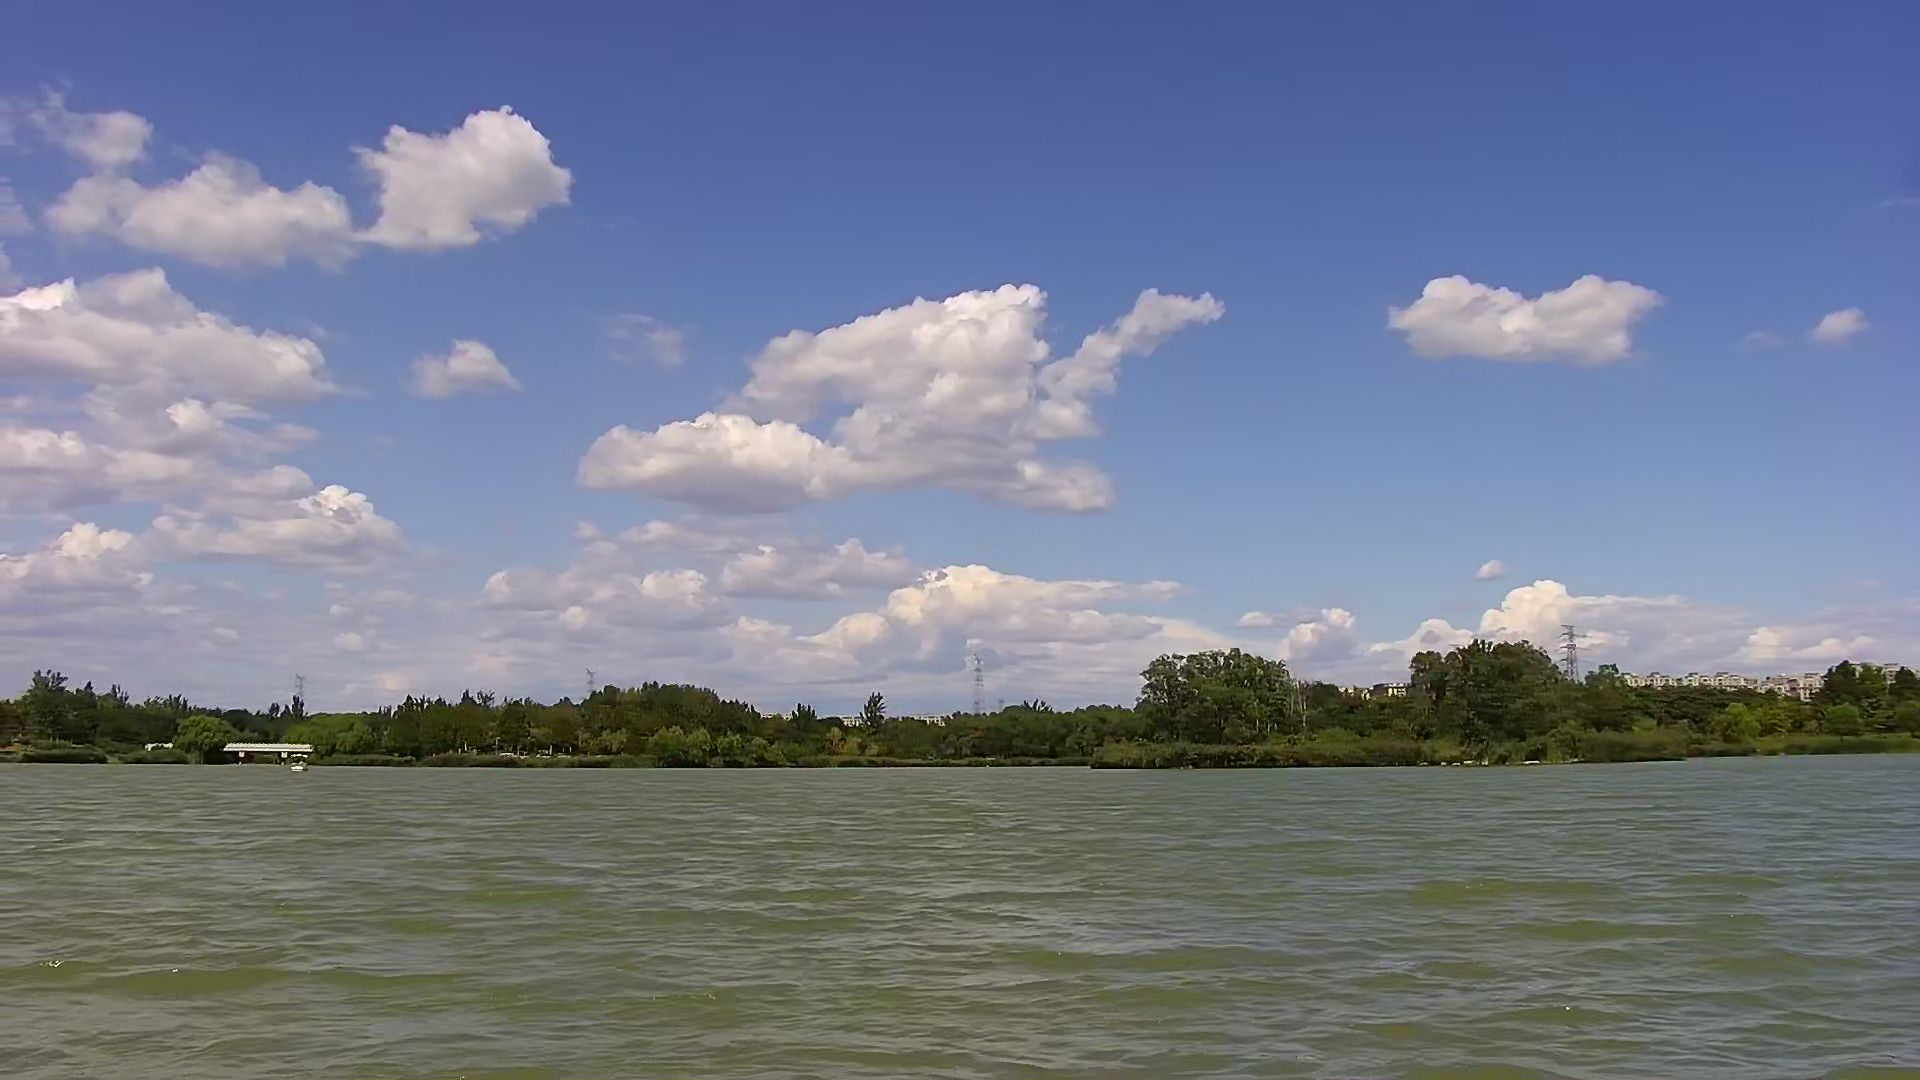boat: (285, 750, 319, 781)
bridge: (218, 735, 328, 767)
